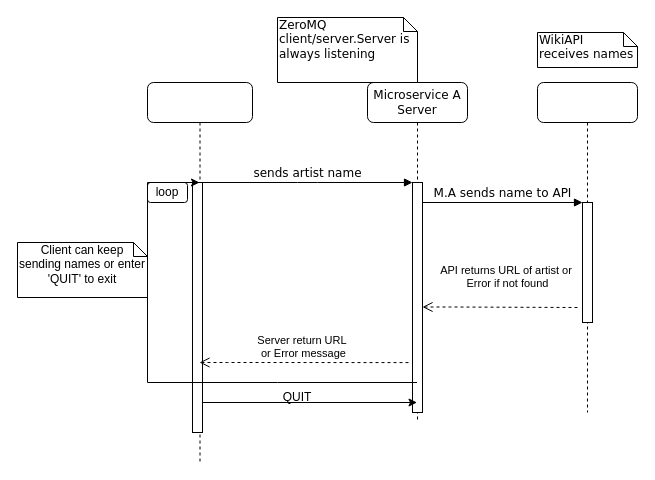
Image size: 655x480. Some labels were removed from this diagram. The shapes that lost their labels are listed below. From the top down, each one's box as (x1, y1, x2, y2) in pixels, then its label:
(536, 82, 638, 412): WikipediaAPI
(146, 82, 252, 462): Test Client makes request
